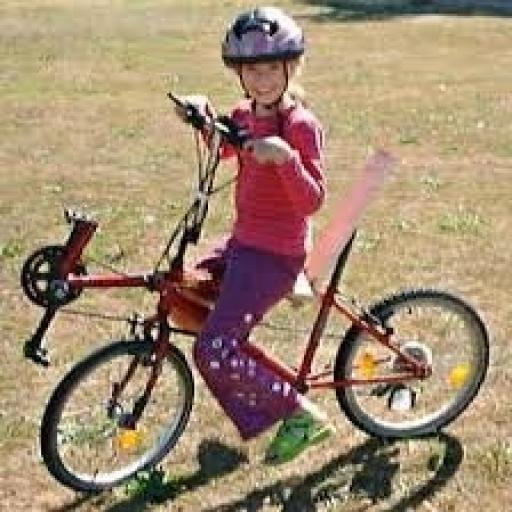cycling: (178, 4, 338, 466)
